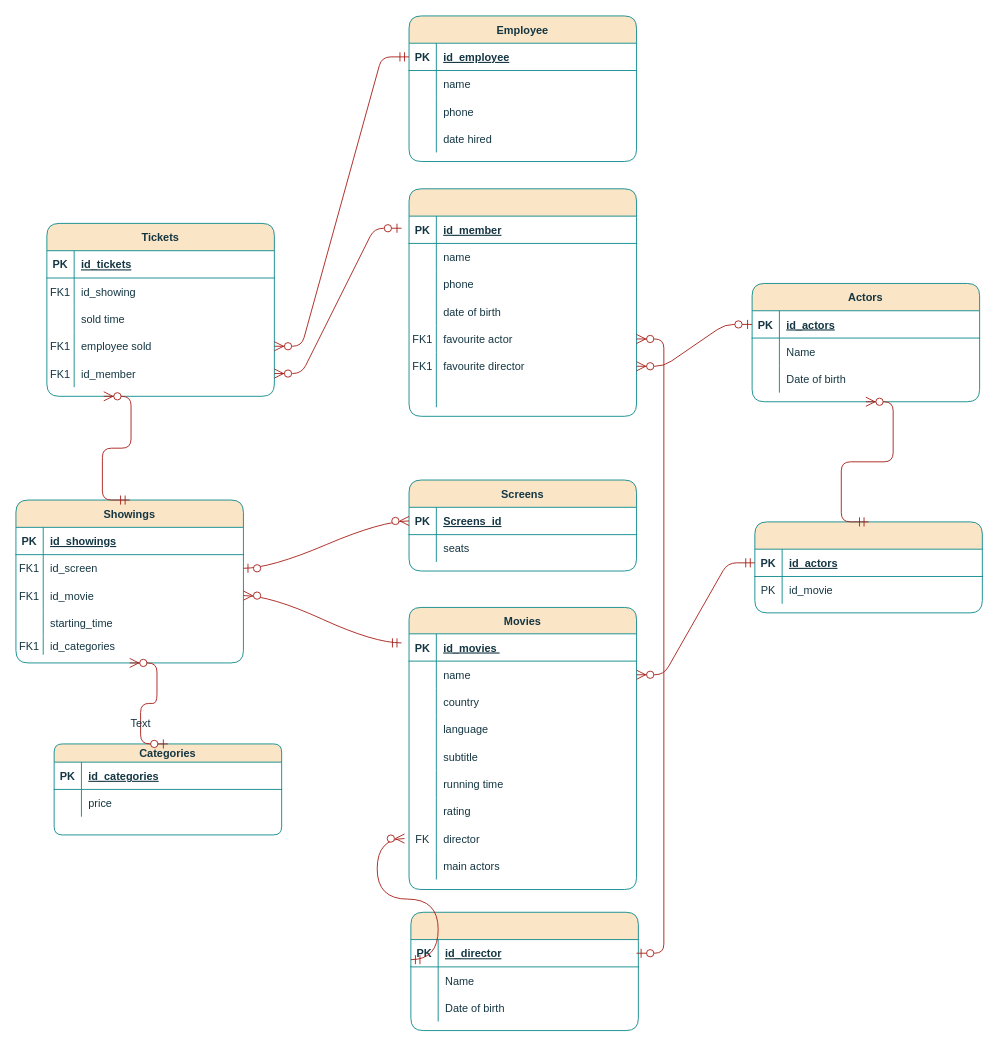
The diagram is 998 pixels wide and 1047 high, and some of its shapes have lost their labels. The shapes that lost their labels are listed below. From the top down, each one's box as (x1, y1, x2, y2) in pixels, then its label:
(408, 188, 637, 416): Club_Member
(754, 521, 982, 613): Movie Actor
(410, 911, 638, 1031): Directors
